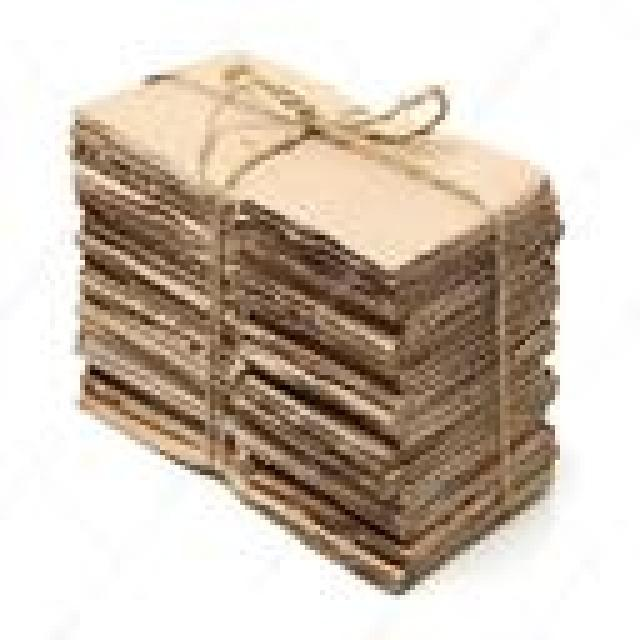Cardboard: (77, 48, 568, 601)
